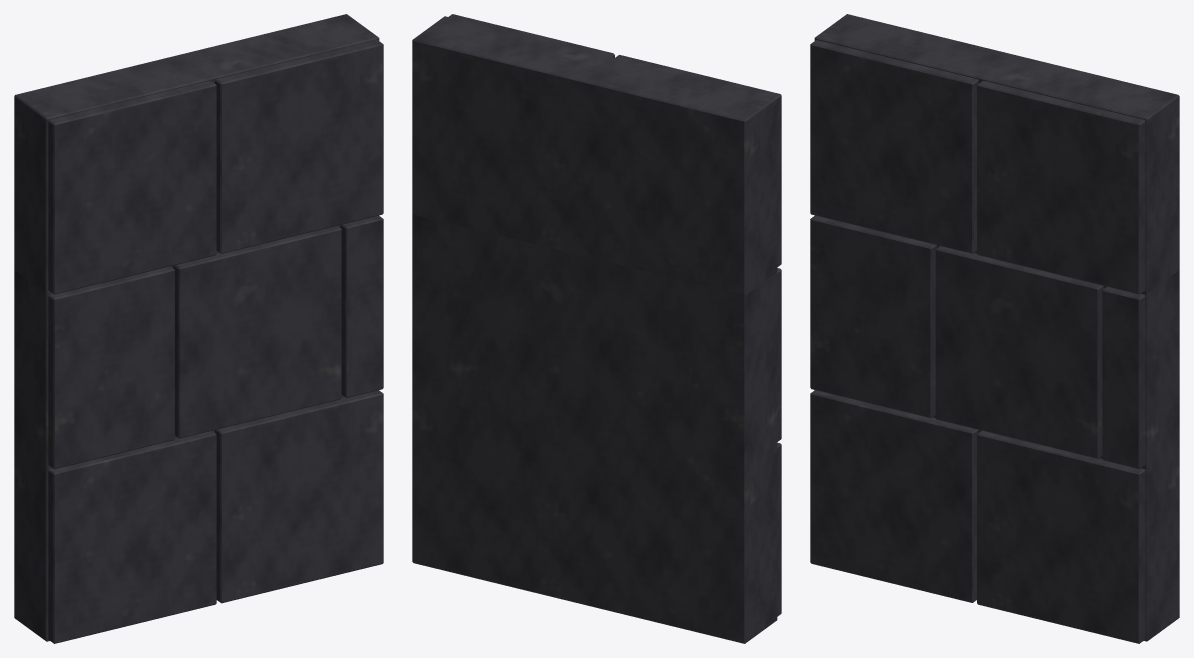
Rendered from parede.glb.
The picture shows the model from 3 angles, left to right: view 1: azimuth 30°, elevation 25°; view 2: azimuth 150°, elevation 25°; view 3: azimuth 330°, elevation 25°; orthographic projection.
Visible parts, largest first — view 1: parede; view 2: parede; view 3: parede.
Boxes of the visible parts, x1,y1,x2,y2 form: parede: (14, 14, 383, 643); parede: (412, 14, 781, 643); parede: (810, 14, 1179, 643).
Bounding box in the file's own units: 2 × 3 × 0.4037.
Materials: 1 (1 with a texture image).
